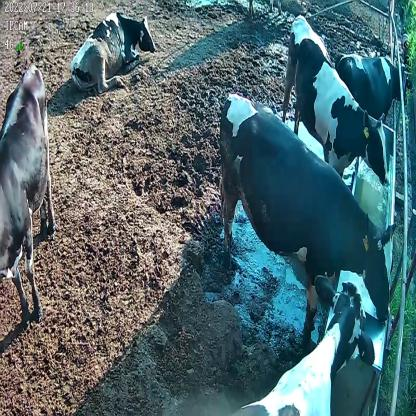cow: (218, 94, 390, 329), (233, 273, 375, 416), (282, 13, 389, 194), (2, 63, 57, 329), (68, 11, 155, 91), (332, 47, 408, 118)
